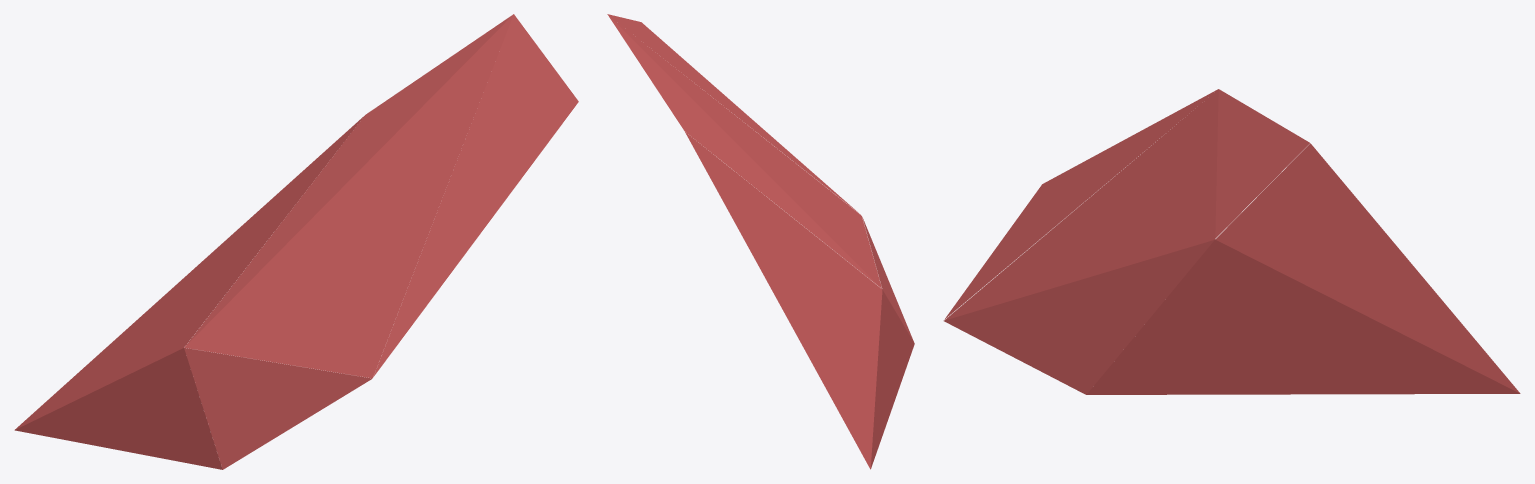
File: dossy_arm_r.glb
3 views of the same model, side by side, from view 1: azimuth 30°, elevation 25°; view 2: azimuth 150°, elevation 25°; view 3: azimuth 270°, elevation 25° (orthographic). The views are drawn at different scales.
Parts seen in each view (by area): view 1: dossy_arm_r_col; view 2: dossy_arm_r_col; view 3: dossy_arm_r_col.
Part boxes in pixels (x1,y1,x2,y2): dossy_arm_r_col: (14, 14, 578, 469); dossy_arm_r_col: (607, 14, 914, 469); dossy_arm_r_col: (943, 89, 1520, 394).
Size of the model in its own units: 0.4018 by 0.35 by 0.2881.
